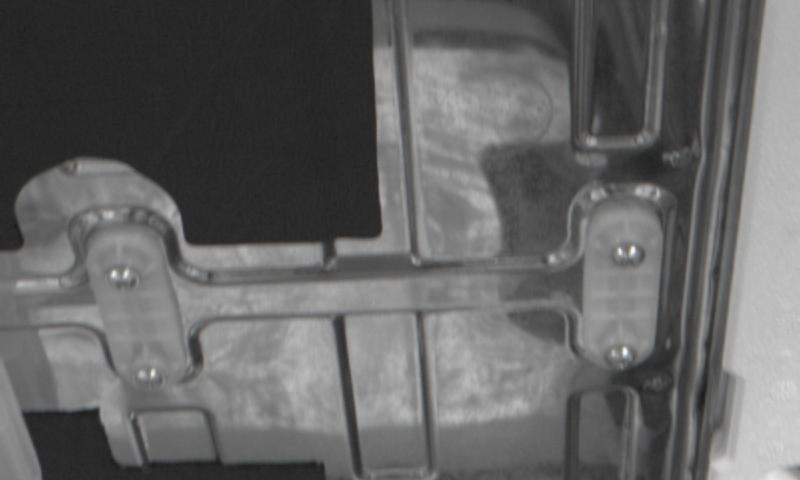vida-ok: (607, 238, 650, 283), (101, 260, 141, 305), (126, 358, 168, 398), (602, 337, 642, 375)
